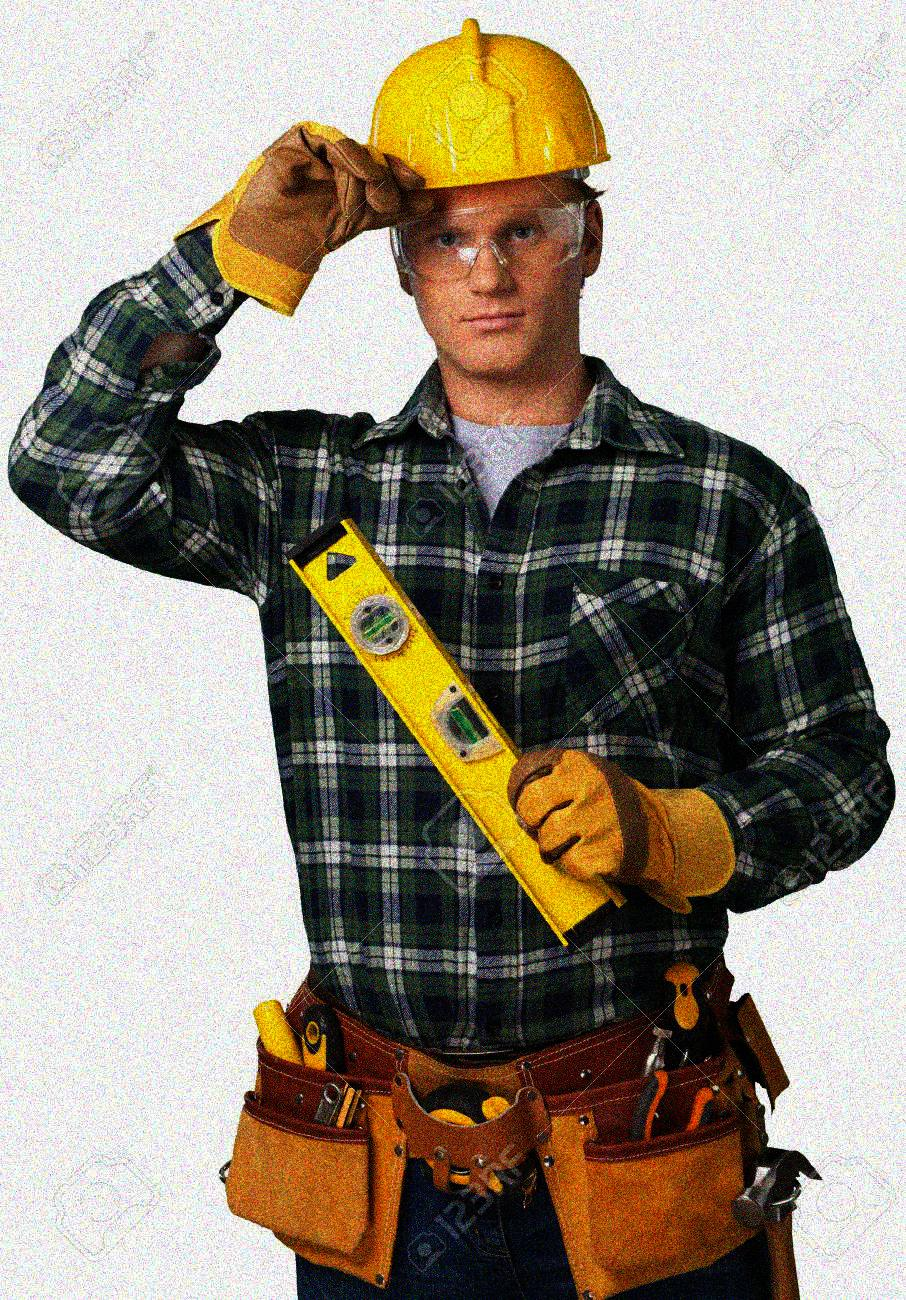helmet: (341, 12, 612, 367)
